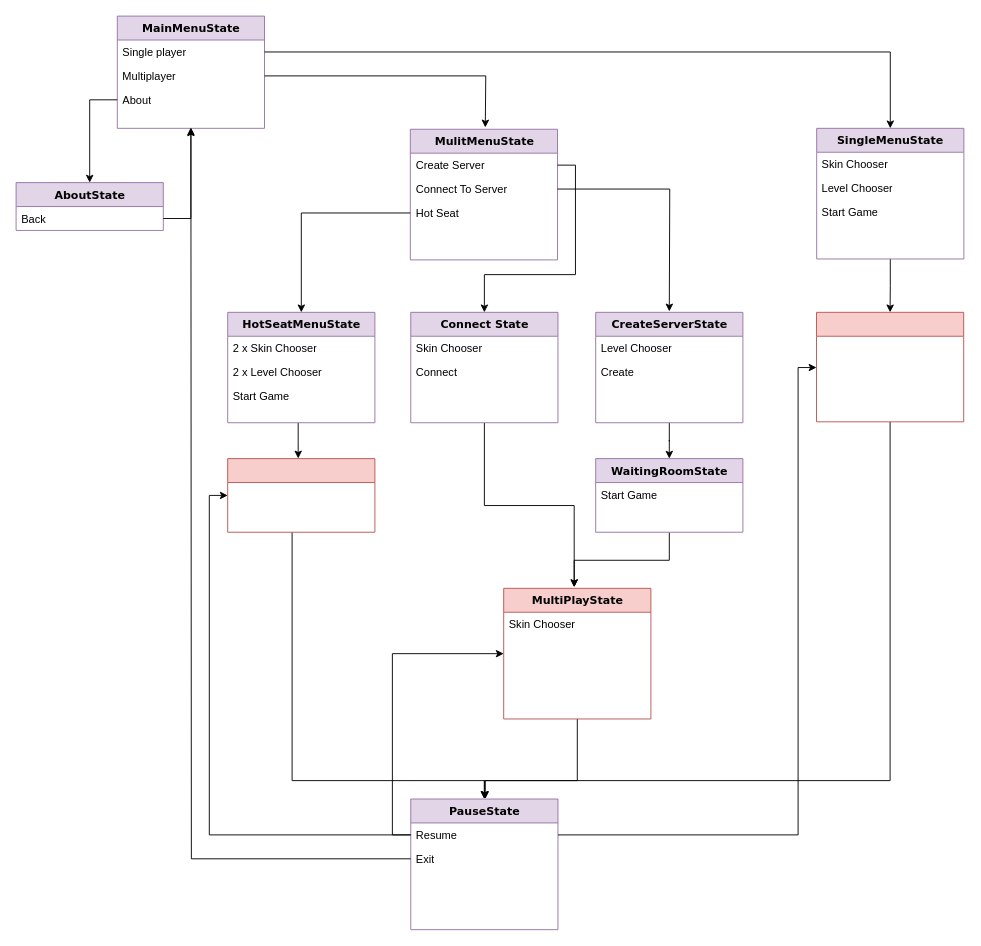
This 981x946 diagram has some shape labels left out. The centre of each missing label's shape, as x and y in pixels:
HotSeatPlayState: (301,495)
SinglePlayState: (890,366)
